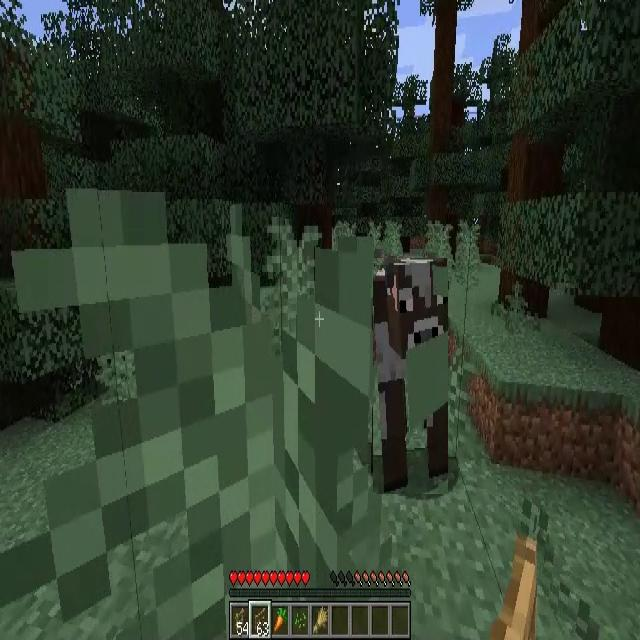cow: (373, 258, 448, 494)
